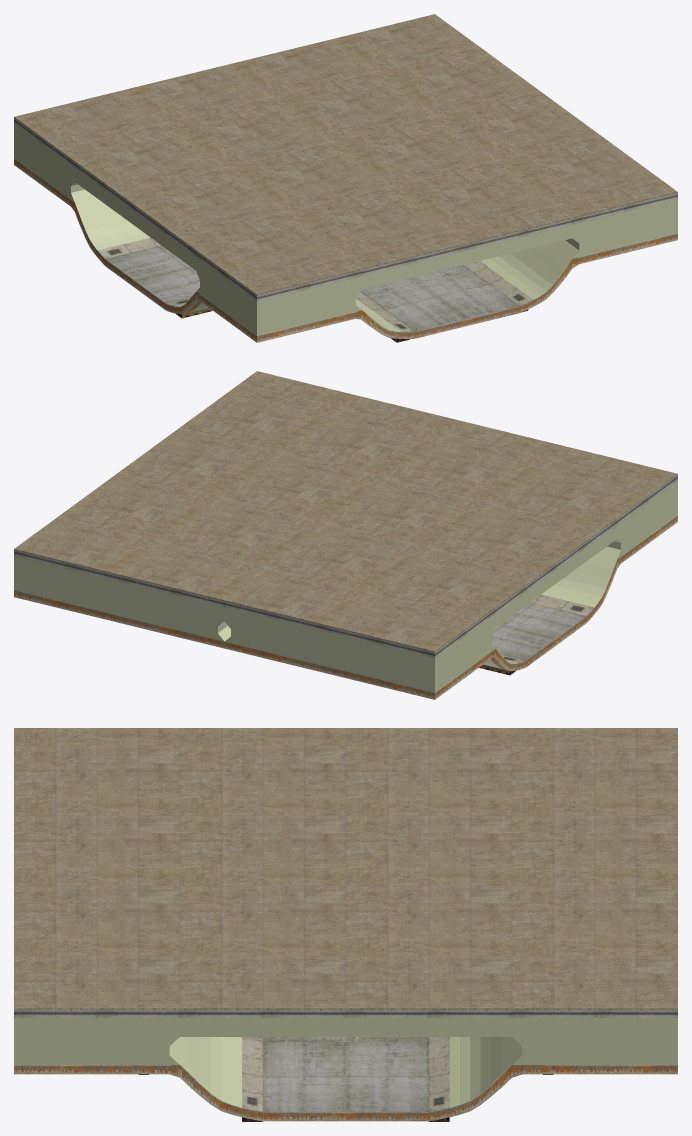
Rendered from PlatformUnitHor_T.fbx.
3 renders of one model, top to bottom at view 1: azimuth 30°, elevation 25°; view 2: azimuth 150°, elevation 25°; view 3: azimuth 270°, elevation 25°, orthographic. The views are drawn at different scales.
Parts seen in each view (by area): view 1: PlatformUnitHor_T_Lod0; view 2: PlatformUnitHor_T_Lod0; view 3: PlatformUnitHor_T_Lod0.
Boxes of the visible parts, x1,y1,x2,y2 form: PlatformUnitHor_T_Lod0: (14,14,677,342); PlatformUnitHor_T_Lod0: (14,371,677,699); PlatformUnitHor_T_Lod0: (14,728,677,1121).
Bounding box in the file's own units: 64 × 12.64 × 64.02.
